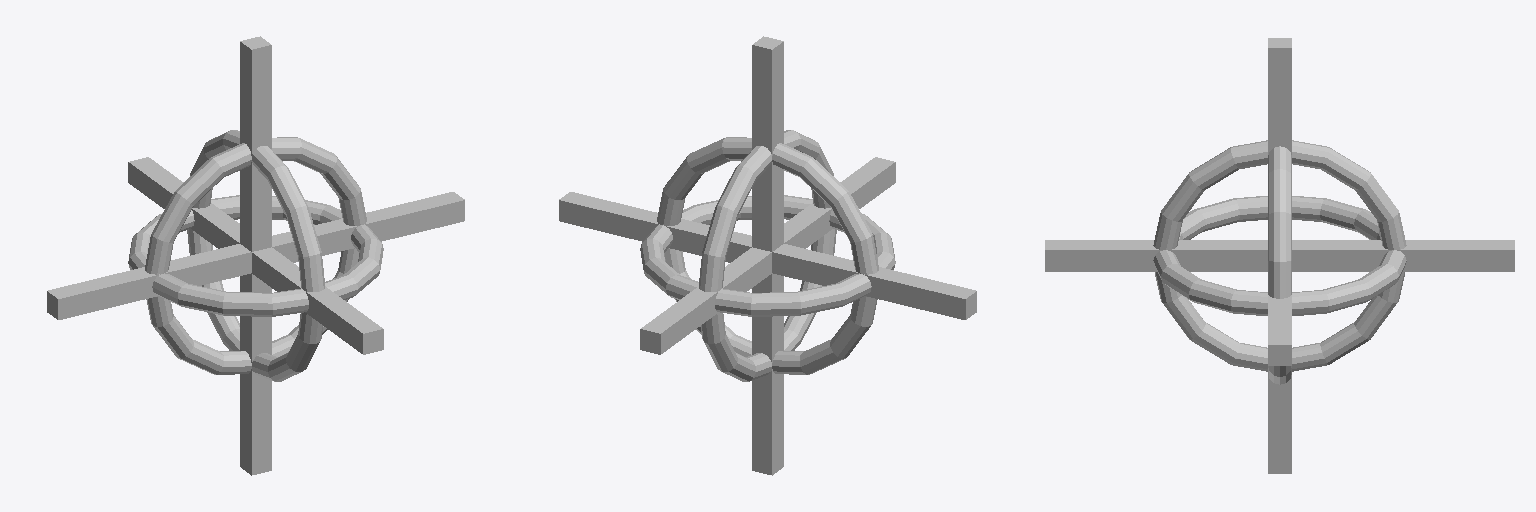
File: gyro.obj
3 renders of one model, left to right at view 1: azimuth 30°, elevation 25°; view 2: azimuth 150°, elevation 25°; view 3: azimuth 270°, elevation 25°, orthographic.
Parts seen in each view (by area): view 1: Torus; view 2: Torus; view 3: Torus.
Boxes of the visible parts, box(x1,y1,x2,y2) form: Torus: box(47, 36, 464, 475); Torus: box(559, 36, 976, 475); Torus: box(1045, 38, 1514, 473).
Bounding box in the file's own units: 4.02 × 4.02 × 4.02.